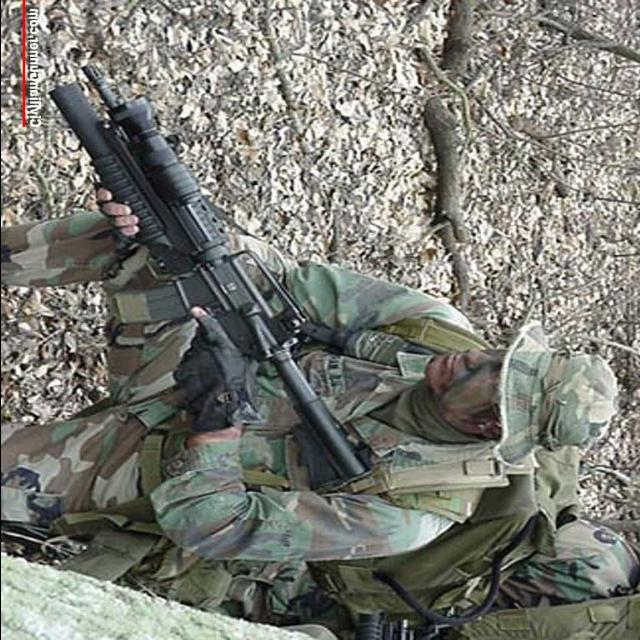heavyweapon: (34, 77, 390, 498)
